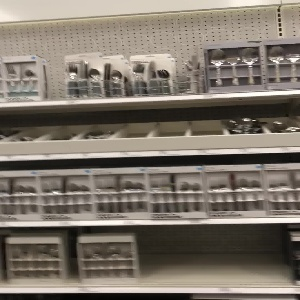void: (138, 229, 290, 284)
